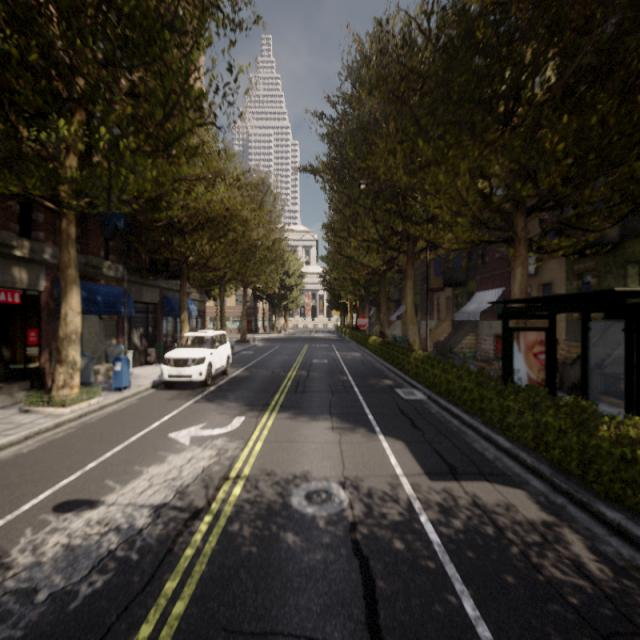stop sign: (356, 312, 370, 337)
